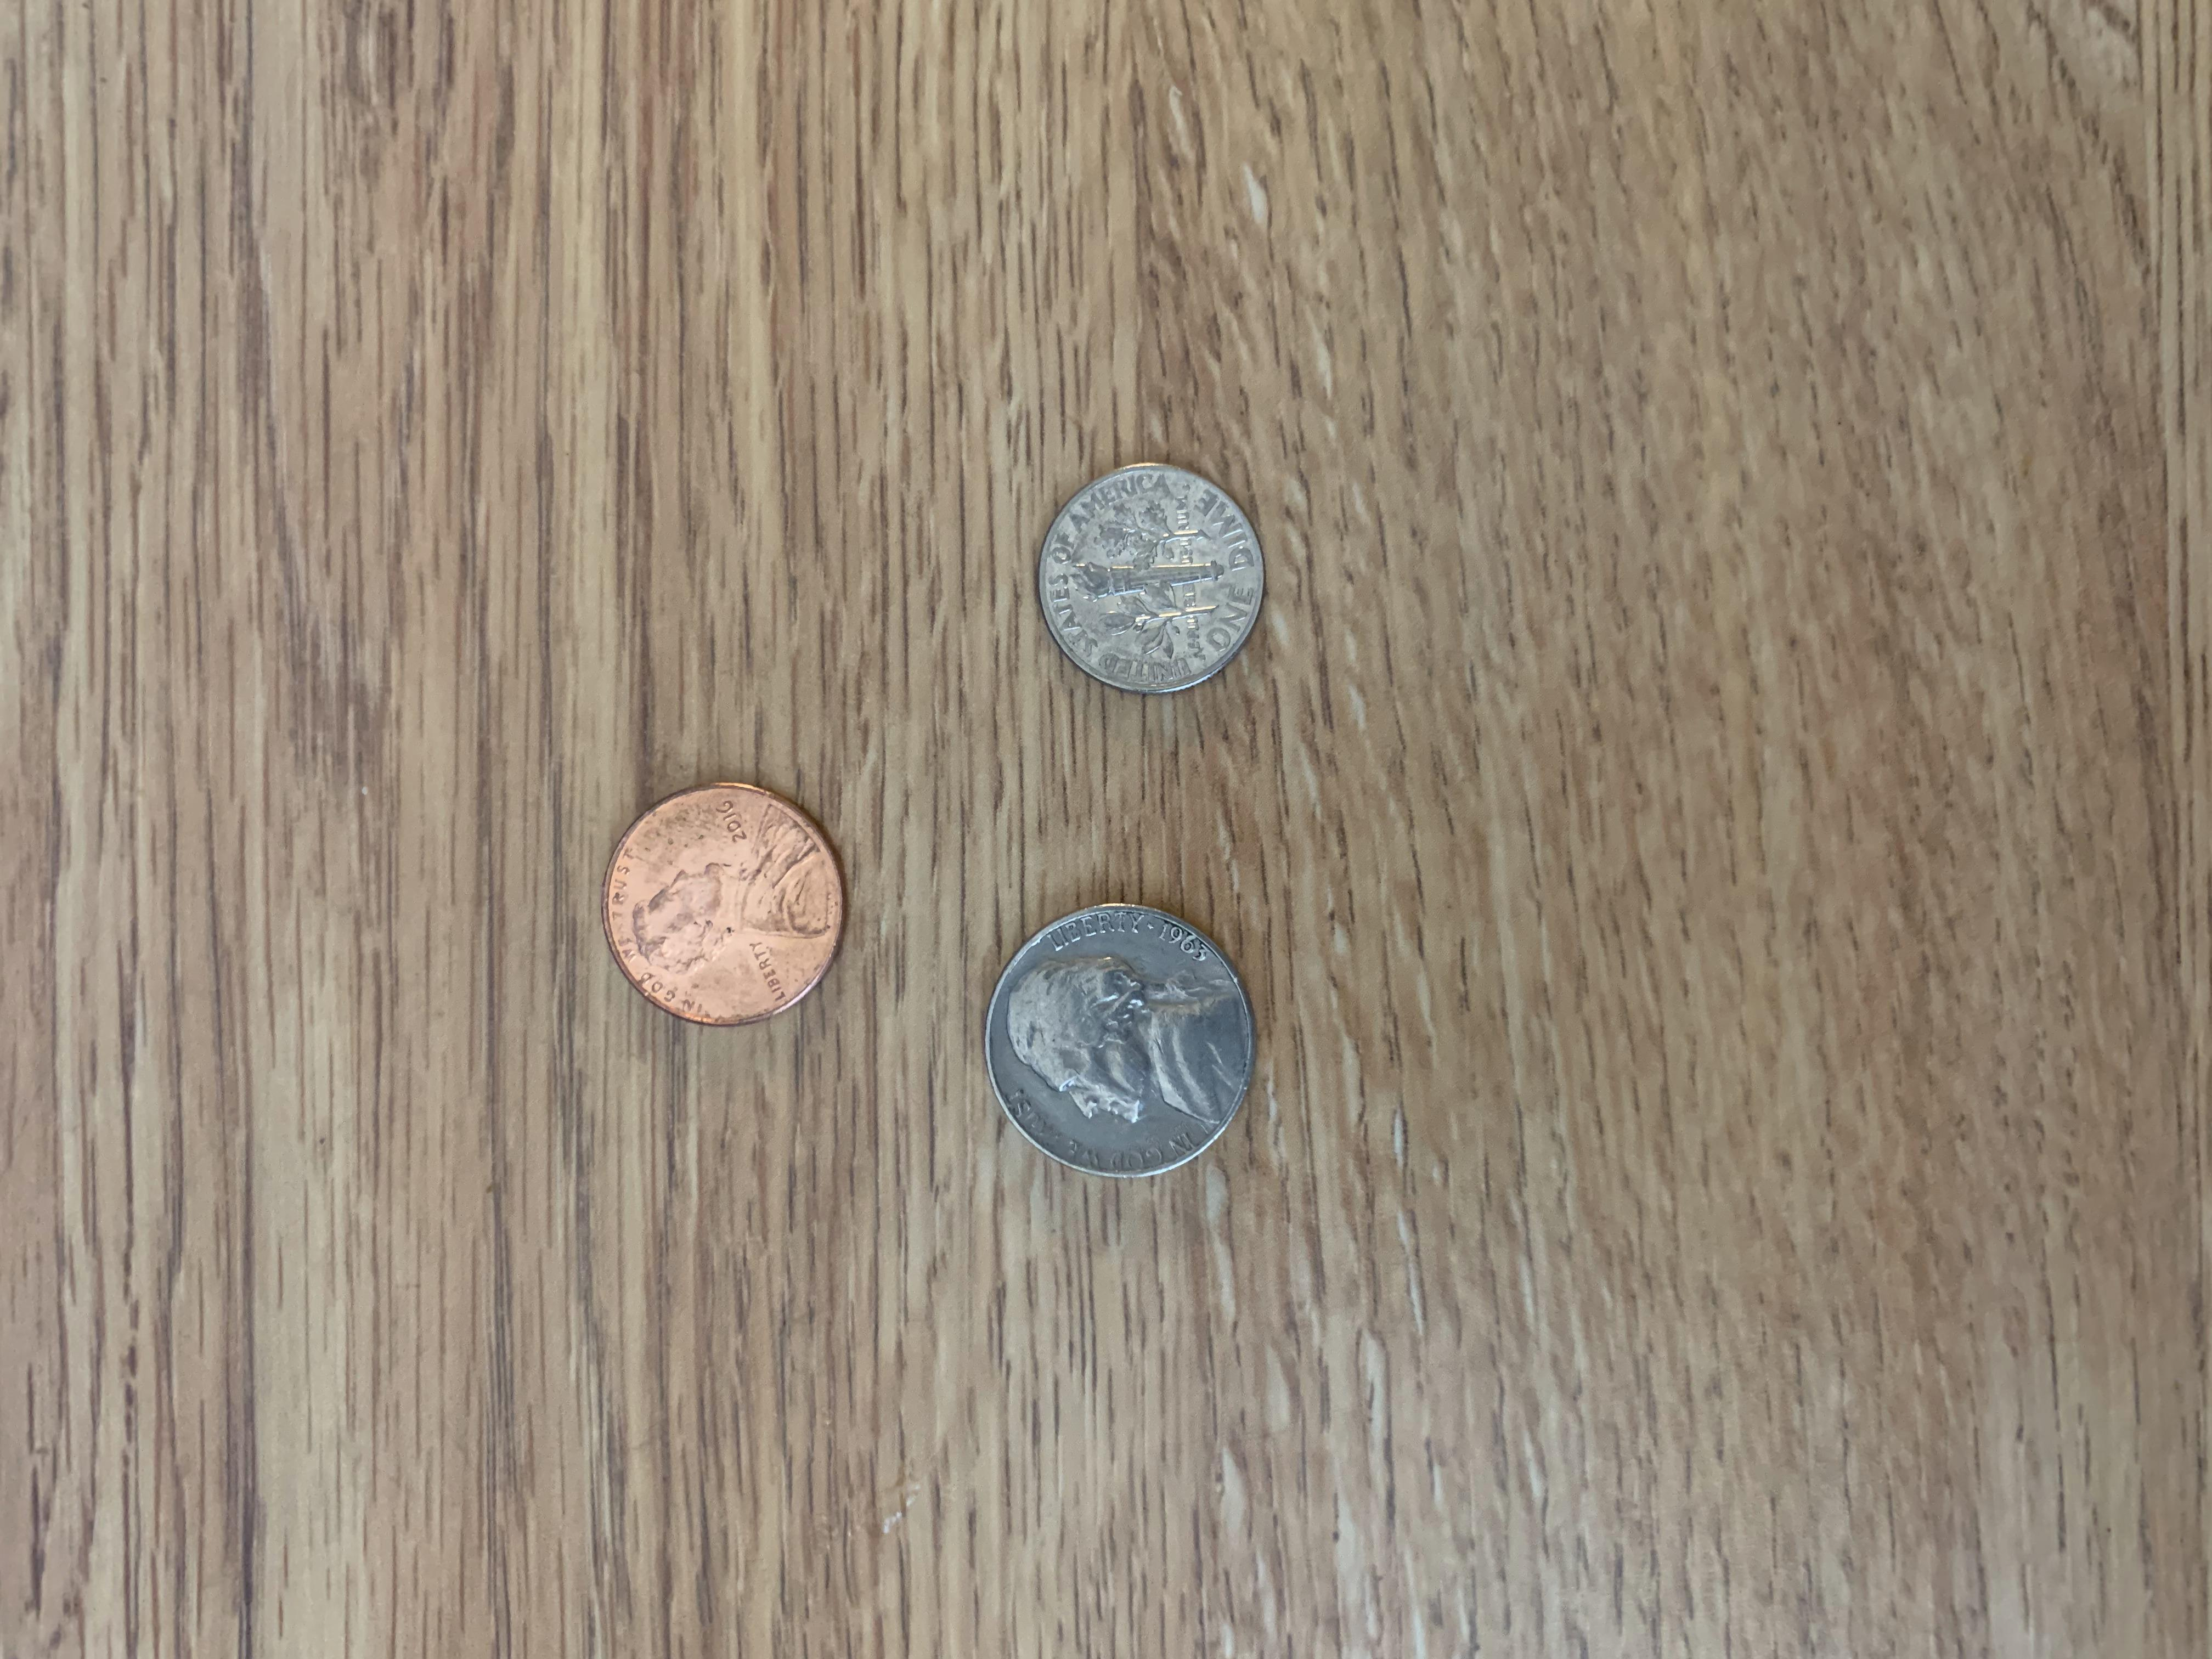Dime: (1028, 451, 1270, 708)
Nickel: (975, 896, 1266, 1185)
Penny: (596, 769, 853, 1042)
